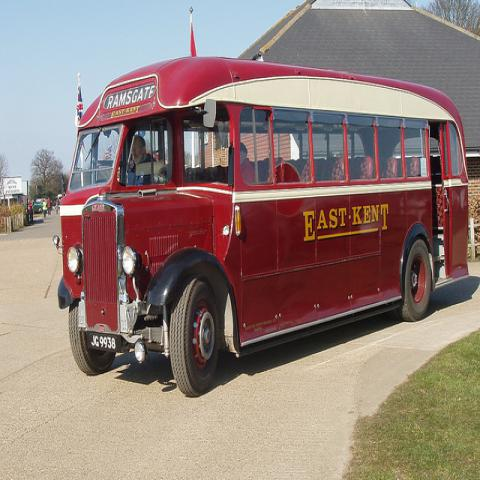bus: (59, 58, 468, 396)
